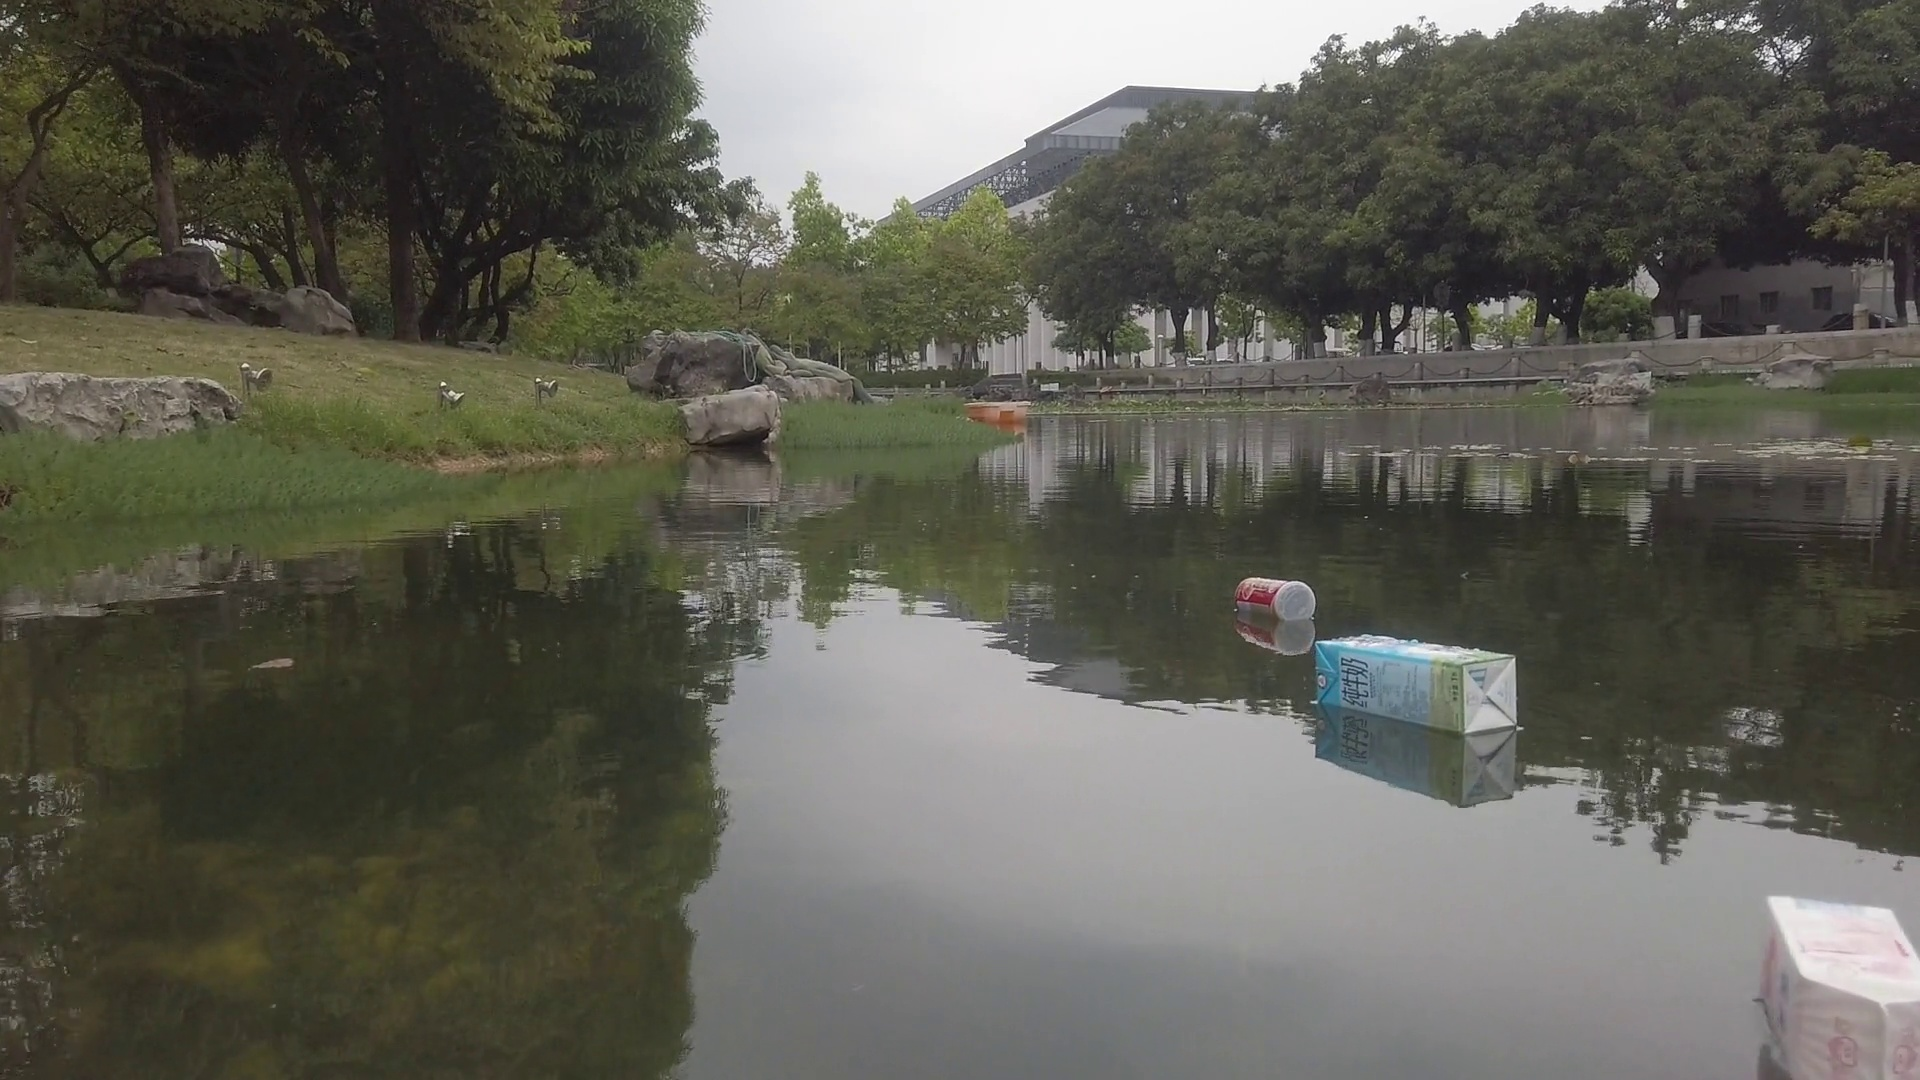bottle: (1234, 574, 1315, 622)
carton: (1760, 880, 1913, 1073), (1317, 626, 1523, 738)
